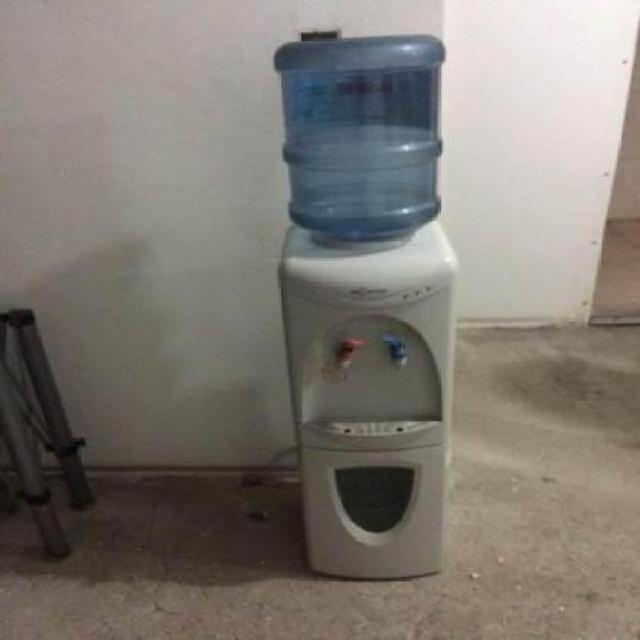cooler: (272, 26, 458, 585)
coolerbottle: (270, 32, 452, 251)
